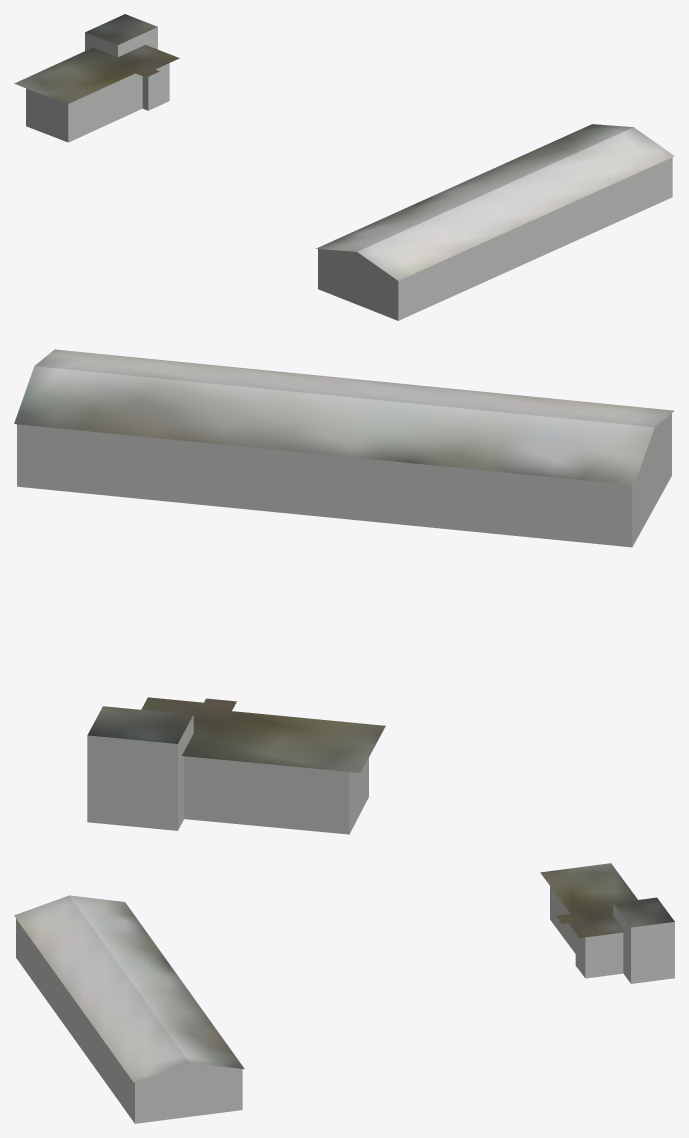
The model's file is LSGS_-2_0.glb.
The picture shows the model from 3 angles, top to bottom: view 1: azimuth 30°, elevation 25°; view 2: azimuth 150°, elevation 25°; view 3: azimuth 270°, elevation 25°; orthographic projection. The views are drawn at different scales.
Parts seen in each view (by area): view 1: building_9f713cd2167530ee, building_51a52c987641e903; view 2: building_9f713cd2167530ee, building_51a52c987641e903; view 3: building_9f713cd2167530ee, building_51a52c987641e903.
Boxes of the visible parts, <box> form: building_9f713cd2167530ee: <box>14,14,674,280</box>; building_51a52c987641e903: <box>26,27,672,320</box>; building_9f713cd2167530ee: <box>14,349,674,772</box>; building_51a52c987641e903: <box>17,413,671,834</box>; building_9f713cd2167530ee: <box>14,863,674,1082</box>; building_51a52c987641e903: <box>16,886,674,1123</box>.
Size of the model in its own units: 73.95 by 9.78 by 96.8.
2 materials, 1 textured.
